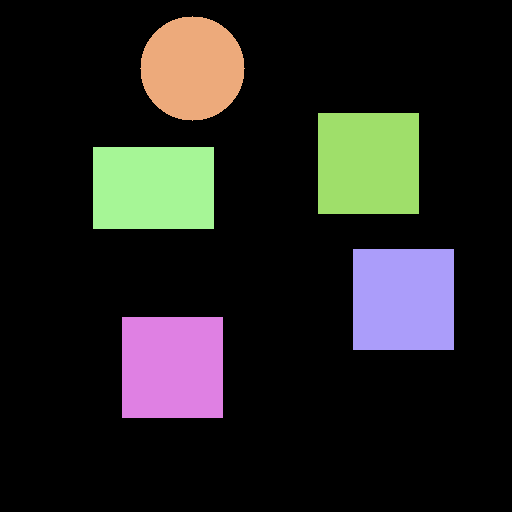circle: (140, 16, 244, 120)
rectangle: (93, 147, 213, 228)
square: (122, 317, 222, 417), (353, 249, 453, 349), (318, 113, 418, 213)
